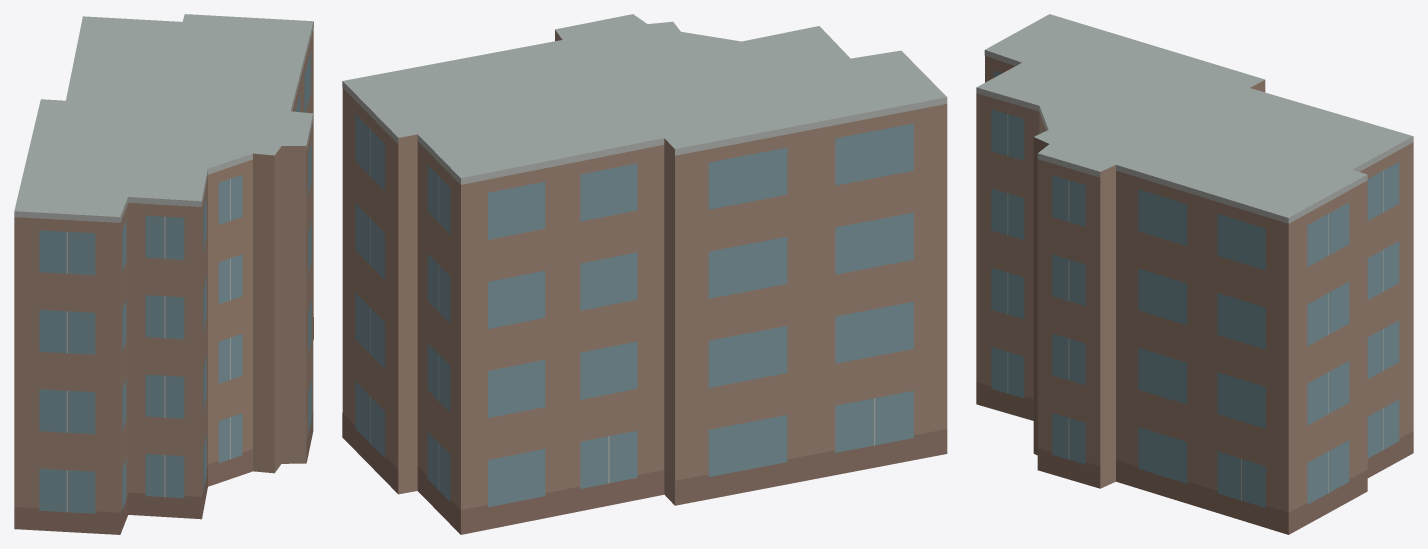
The model's file is survey-upis-32472966.glb.
3 views of the same model, side by side, from view 1: azimuth 30°, elevation 25°; view 2: azimuth 150°, elevation 25°; view 3: azimuth 270°, elevation 25° (orthographic). The views are drawn at different scales.
Visible parts, largest first — view 1: survey-upis-32472966.tmp; view 2: survey-upis-32472966.tmp; view 3: survey-upis-32472966.tmp.
Part boxes in pixels (bbox=[...]): survey-upis-32472966.tmp: bbox=[14, 14, 313, 534]; survey-upis-32472966.tmp: bbox=[342, 14, 947, 534]; survey-upis-32472966.tmp: bbox=[976, 14, 1413, 534].
Size of the model in its own units: 18.3 by 13.25 by 16.58.
